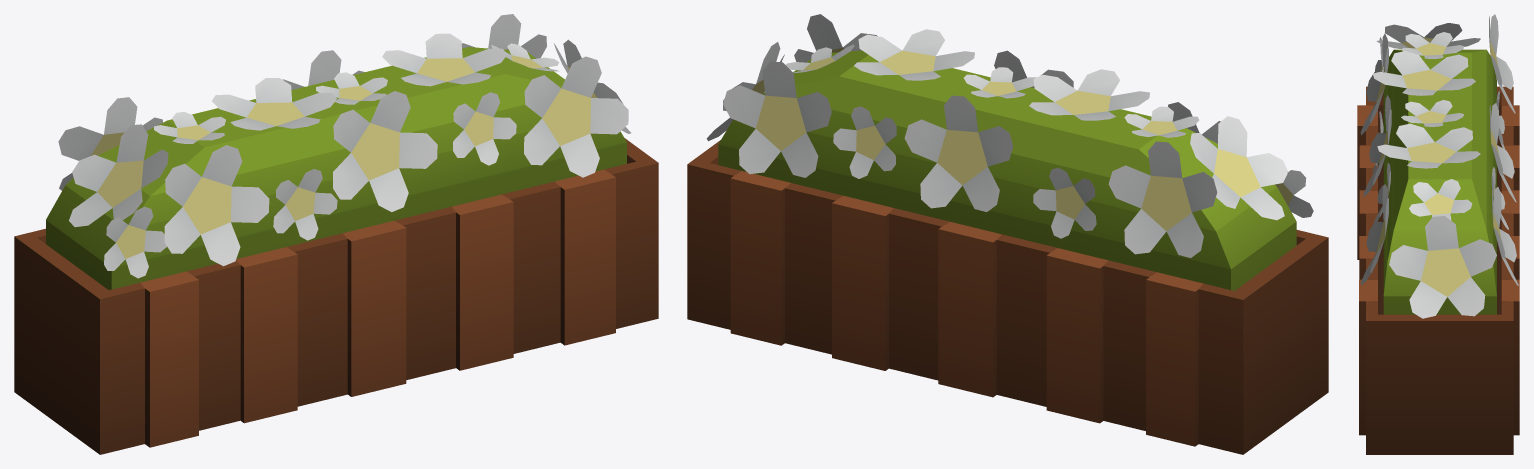
Rendered from farmpack2023flowerbed_001.fbx.
3 views of the same model, side by side, from view 1: azimuth 30°, elevation 25°; view 2: azimuth 150°, elevation 25°; view 3: azimuth 270°, elevation 25° (orthographic). The views are drawn at different scales.
Parts seen in each view (by area): view 1: Cylinder.464; view 2: Cylinder.464; view 3: Cylinder.464.
Part boxes in pixels (x1,y1,x2,y2): Cylinder.464: (14, 14, 658, 454); Cylinder.464: (687, 14, 1328, 454); Cylinder.464: (1357, 14, 1519, 454).
Bounding box in the file's own units: 0.6387 × 2.19 × 1.05.
